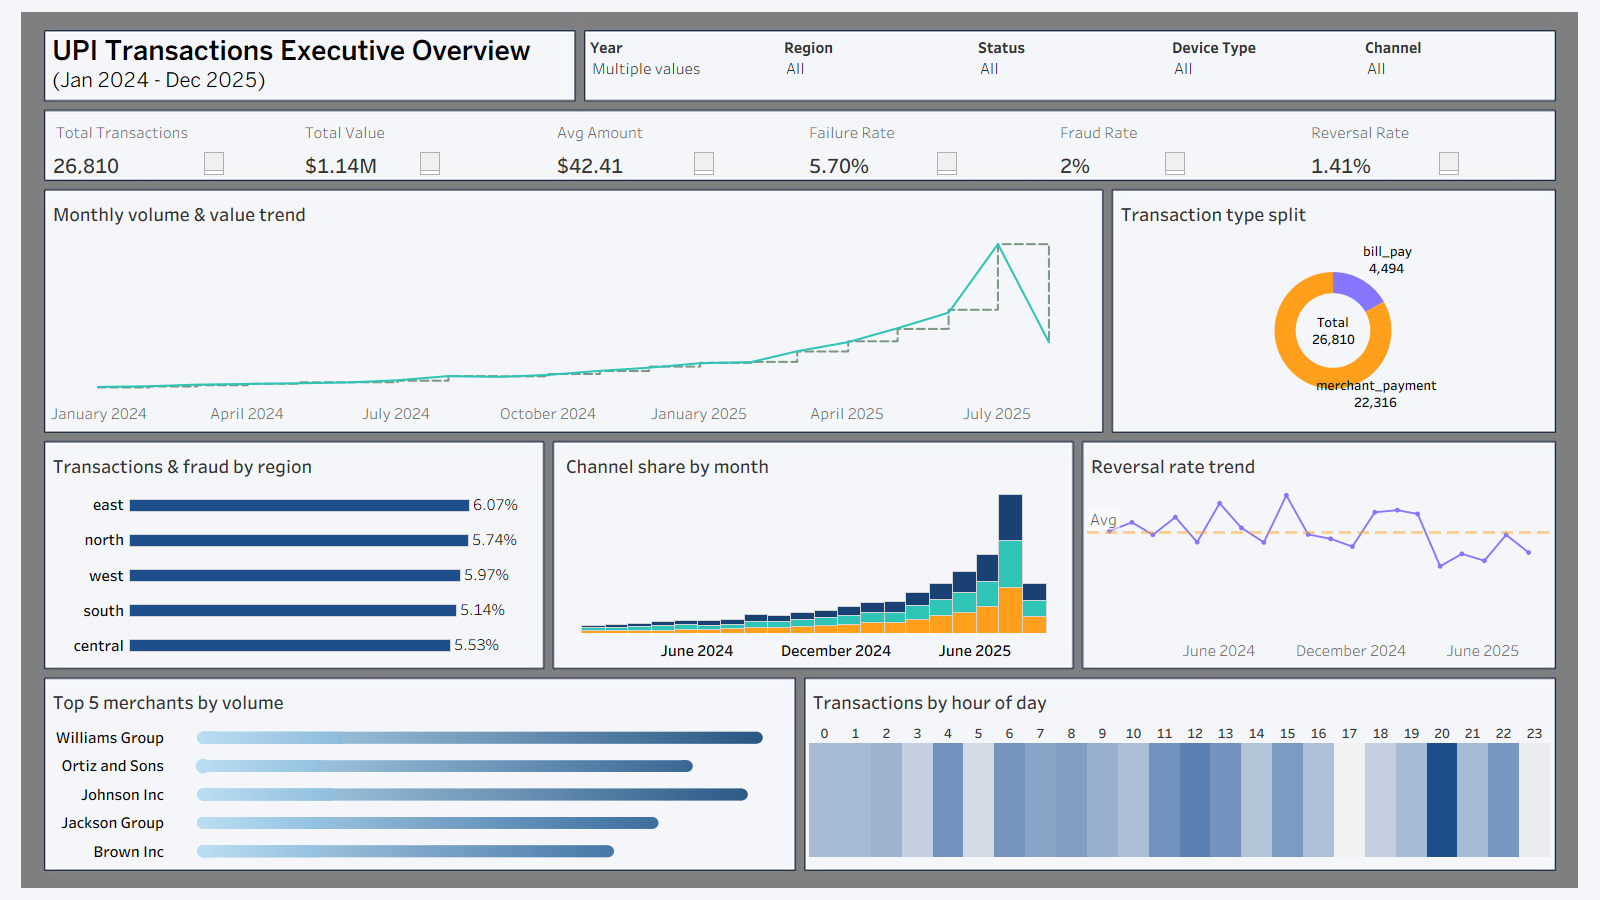

The dashboard page shown, as its layout file describes it:
{"tool":"tableau","page":{"name":"Dashboard 1","canvas":[1600,900],"ordinal":0},"visuals":[{"type":"image","param":"D:/PROJECTS/Capston Project Background/UPI Dashboard 1.jpg","box":[8,8,1584,884]},{"type":"text","box":[45,31,530,67]},{"type":"filter","title":" Total Transactions","param":"[federated.0rhq27f0kg3e8d12m7mkd1w927np].[yr:timestamp:ok]","box":[586,32,194,67]},{"type":"filter","title":" Total Transactions","param":"[federated.0rhq27f0kg3e8d12m7mkd1w927np].[none:region:nk]","box":[780,32,194,67]},{"type":"filter","title":" Total Transactions","param":"[federated.0rhq27f0kg3e8d12m7mkd1w927np].[none:status:nk]","box":[974,32,194,67]},{"type":"filter","title":" Total Transactions","param":"[federated.0rhq27f0kg3e8d12m7mkd1w927np].[none:device_type (device_info):nk]","box":[1168,32,193,67]},{"type":"filter","title":" Channel share by month ","param":"[federated.0rhq27f0kg3e8d12m7mkd1w927np].[none:channel:nk]","box":[1361,32,193,67]},{"type":"worksheet","title":" Total Transactions","mark":"Automatic","box":[45,112,252,66]},{"type":"worksheet","title":"Total Value","mark":"Automatic","box":[297,112,252,66]},{"type":"worksheet","title":"Avg Amount","mark":"Automatic","box":[549,112,252,66]},{"type":"worksheet","title":"Failure Rate","mark":"Automatic","box":[801,112,251,66]},{"type":"worksheet","title":"Fraud Rate","mark":"Automatic","box":[1052,112,251,66]},{"type":"worksheet","title":"Reversal Rate","mark":"Automatic","box":[1303,112,251,66]},{"type":"worksheet","title":"Monthly volume & value trend ","mark":"Automatic","rows":["transaction_id","amount"],"cols":["timestamp"],"box":[45,191,1056,239]},{"type":"worksheet","title":"Transaction type split ","mark":"Pie","rows":["Calculation_0771046182838276","Calculation_0771046182879238"],"box":[1113,191,440,239]},{"type":"worksheet","title":"Transactions & fraud by region ","mark":"Bar","rows":["region"],"cols":["transaction_id"],"box":[45,443,498,224]},{"type":"worksheet","title":" Channel share by month ","mark":"Bar","rows":["transaction_id"],"cols":["timestamp"],"box":[554,443,519,224]},{"type":"worksheet","title":"Reversal rate trend ","mark":"Automatic","rows":["Calculation_0771046104608770"],"cols":["timestamp"],"box":[1083,443,471,224]},{"type":"worksheet","title":"Top 5 merchants by volume ","mark":"Line","rows":["merchant_name"],"box":[45,679,749,190]},{"type":"worksheet","title":"Transactions by hour of day ","mark":"Square","rows":["Calculation_0839491016486922"],"cols":["Calculation_0839491014082565"],"box":[805,679,749,182]}]}

Visuals, with their boxes in screenshot pixels (x1, y1, x2, y2), scaled from the page's 1600x900 canvas onto the 1600x900 screenshot:
image: box(8, 8, 1592, 892)
text: box(45, 31, 575, 98)
" Total Transactions" filter: box(586, 32, 780, 99)
" Total Transactions" filter: box(780, 32, 974, 99)
" Total Transactions" filter: box(974, 32, 1168, 99)
" Total Transactions" filter: box(1168, 32, 1361, 99)
" Channel share by month " filter: box(1361, 32, 1554, 99)
" Total Transactions" worksheet: box(45, 112, 297, 178)
"Total Value" worksheet: box(297, 112, 549, 178)
"Avg Amount" worksheet: box(549, 112, 801, 178)
"Failure Rate" worksheet: box(801, 112, 1052, 178)
"Fraud Rate" worksheet: box(1052, 112, 1303, 178)
"Reversal Rate" worksheet: box(1303, 112, 1554, 178)
"Monthly volume & value trend " worksheet: box(45, 191, 1101, 430)
"Transaction type split " worksheet (Pie marks): box(1113, 191, 1553, 430)
"Transactions & fraud by region " worksheet (Bar marks): box(45, 443, 543, 667)
" Channel share by month " worksheet (Bar marks): box(554, 443, 1073, 667)
"Reversal rate trend " worksheet: box(1083, 443, 1554, 667)
"Top 5 merchants by volume " worksheet (Line marks): box(45, 679, 794, 869)
"Transactions by hour of day " worksheet (Square marks): box(805, 679, 1554, 861)
